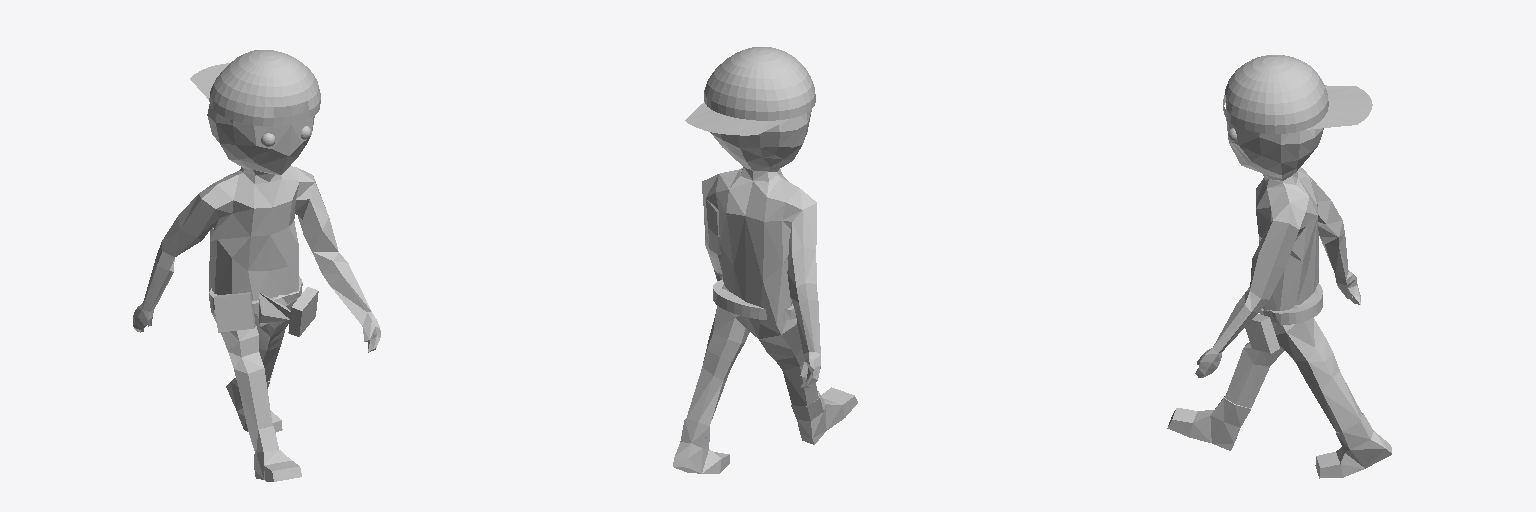
Rendered from Main_Character_Walk_4.obj.
The picture shows the model from 3 angles: view 1: azimuth 30°, elevation 25°; view 2: azimuth 150°, elevation 25°; view 3: azimuth 270°, elevation 25°; orthographic projection.
Visible parts, largest first — view 1: Main_Character_Test.003_Main_Character_Test.004; view 2: Main_Character_Test.003_Main_Character_Test.004; view 3: Main_Character_Test.003_Main_Character_Test.004.
Part boxes in pixels (bbox=[...]): Main_Character_Test.003_Main_Character_Test.004: bbox=[133, 50, 380, 481]; Main_Character_Test.003_Main_Character_Test.004: bbox=[673, 47, 857, 473]; Main_Character_Test.003_Main_Character_Test.004: bbox=[1167, 55, 1391, 478].
Bounding box in the file's own units: 1.74 × 3.87 × 1.97.